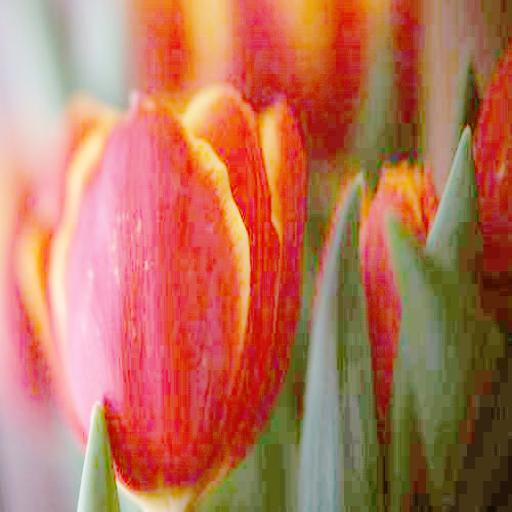tulip: (38, 86, 301, 504)
